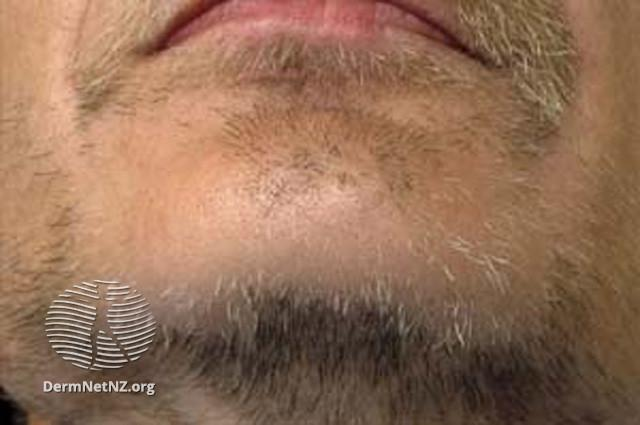Alopecia Areata: (48, 138, 448, 280)
